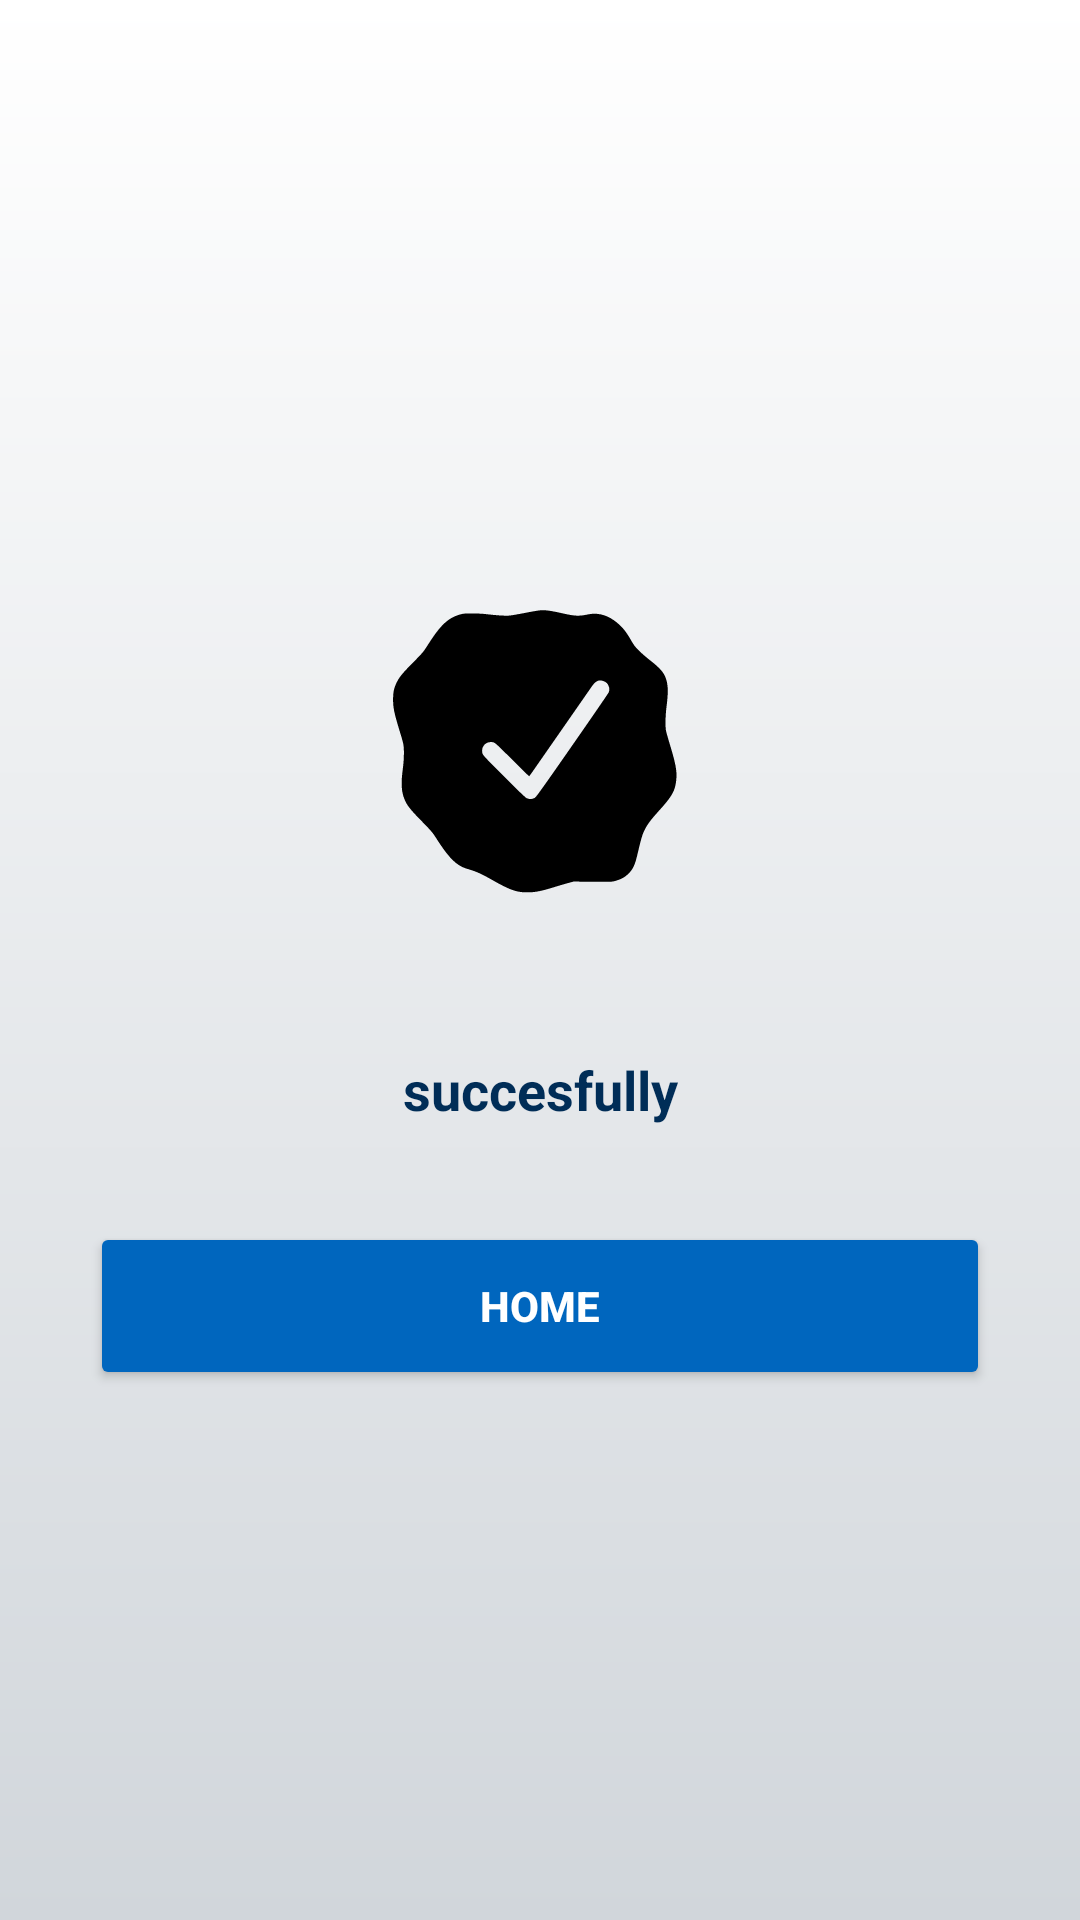

Icon bounding boxes for this 1080px x 1920px phone screenshot, format (x1, y1, x2, y2):
success: (393, 610, 677, 893)
